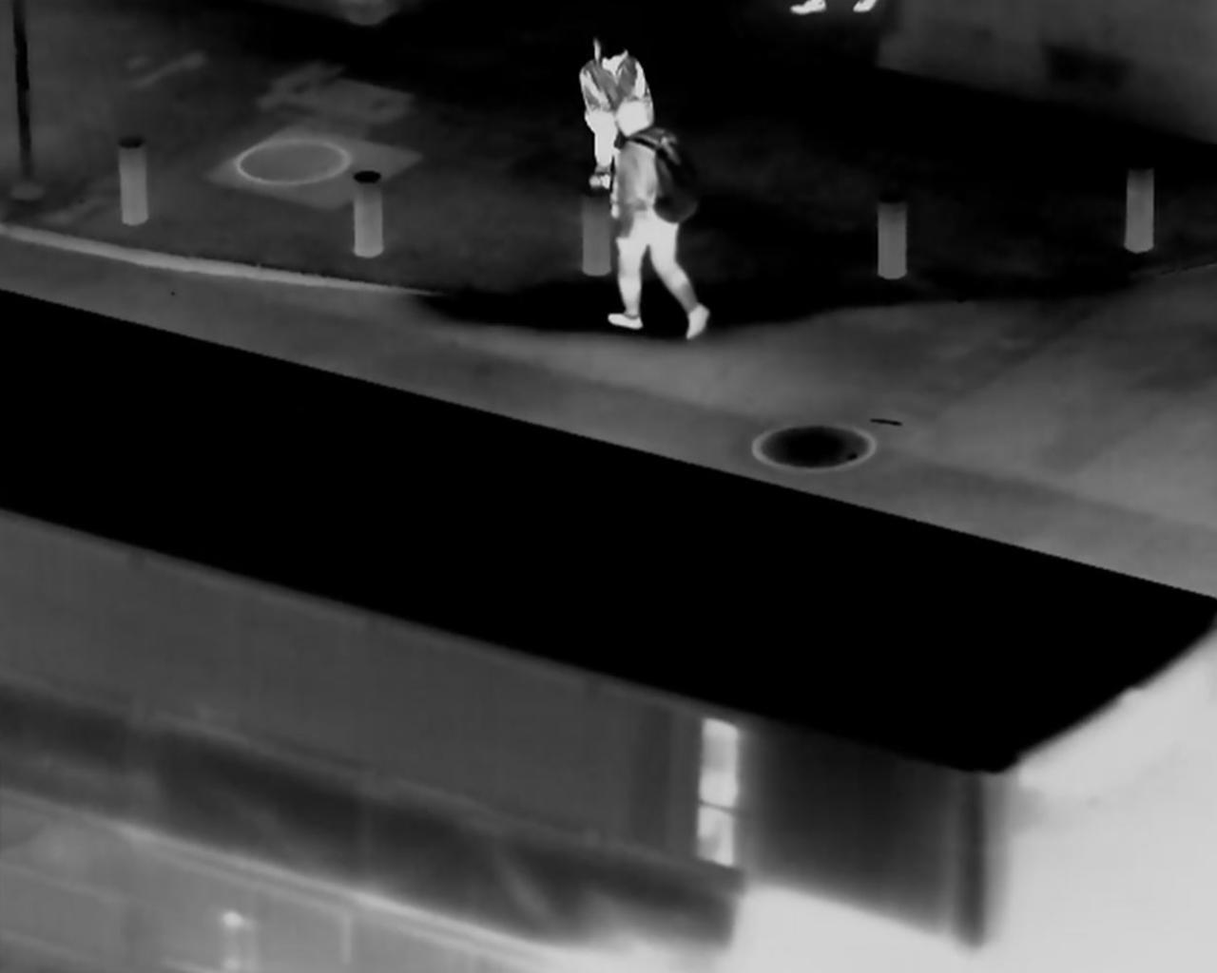person: (608, 97, 712, 344), (565, 22, 656, 187)
